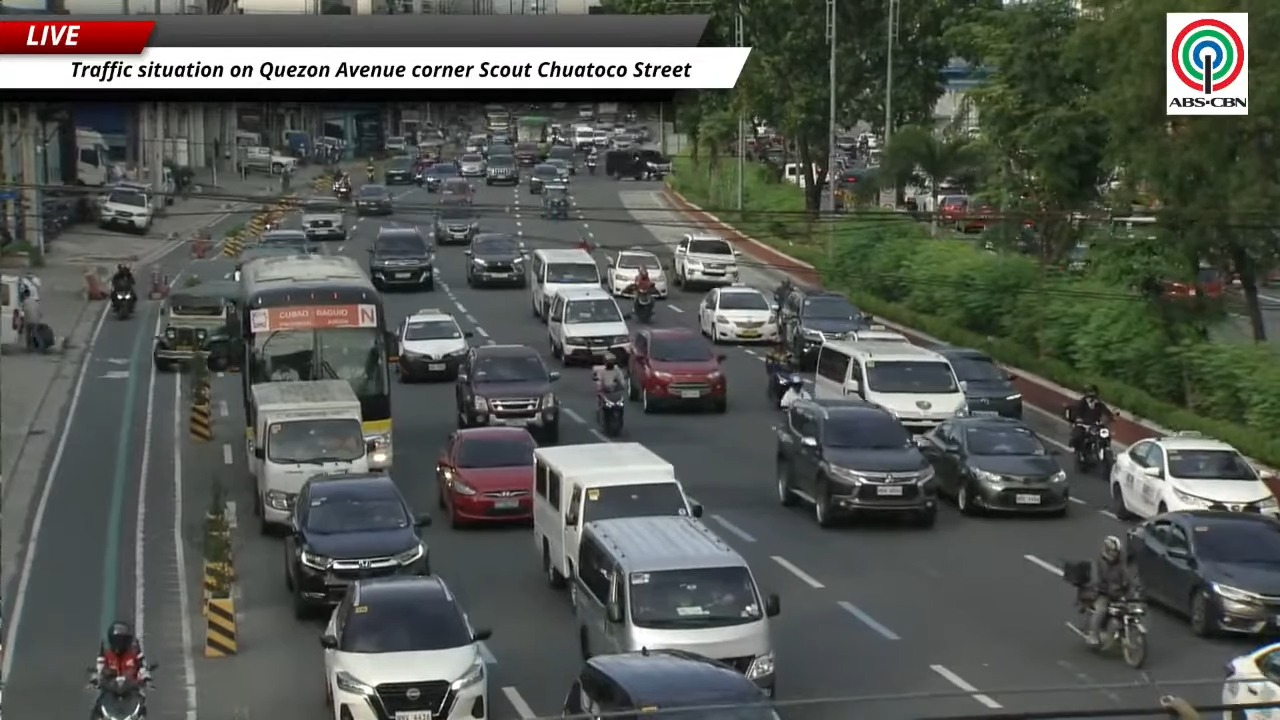bus: (241, 255, 397, 469), (517, 116, 551, 155), (485, 104, 511, 134)
car: (321, 576, 490, 719), (284, 474, 430, 618), (776, 398, 936, 526), (1127, 510, 1279, 635), (563, 649, 779, 719), (919, 417, 1069, 515), (1109, 432, 1276, 518), (456, 345, 560, 444), (436, 427, 535, 526), (628, 328, 727, 412), (153, 279, 242, 370), (780, 287, 869, 369), (547, 287, 628, 365), (937, 347, 1022, 417), (397, 308, 471, 381), (699, 285, 777, 343), (1222, 642, 1279, 719), (369, 227, 433, 290), (673, 234, 738, 289), (466, 233, 527, 287), (606, 248, 668, 297), (224, 245, 298, 282), (603, 138, 669, 179), (99, 187, 153, 233), (301, 197, 346, 240), (435, 201, 478, 244), (254, 229, 318, 254), (355, 184, 393, 215), (849, 324, 908, 343), (422, 162, 458, 192), (485, 154, 519, 185), (540, 184, 570, 219), (528, 163, 559, 193), (439, 176, 473, 203), (383, 156, 414, 185), (548, 145, 575, 174), (458, 150, 485, 177), (545, 158, 571, 183), (513, 142, 540, 166), (464, 135, 488, 158), (487, 142, 512, 159), (384, 136, 407, 152), (593, 129, 611, 148), (491, 133, 511, 149), (613, 134, 634, 149)
motorcycle: (1093, 598, 1146, 668), (91, 671, 146, 719), (1074, 423, 1114, 478), (598, 389, 626, 437), (766, 367, 793, 407), (633, 289, 655, 325), (111, 288, 135, 319), (774, 278, 793, 306), (332, 182, 351, 200), (585, 157, 596, 174), (264, 220, 280, 231), (366, 169, 375, 183)
truck: (246, 355, 368, 532), (75, 127, 111, 186), (238, 147, 297, 174), (596, 102, 620, 128)
